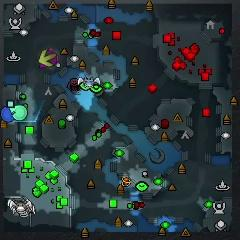p1: (1, 106, 15, 124)
p2: (11, 104, 28, 120)
p3: (39, 49, 58, 68)
x2: (39, 50, 56, 68)
